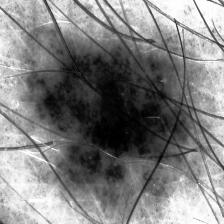Benign Marking or Mole: (30, 35, 208, 187)
